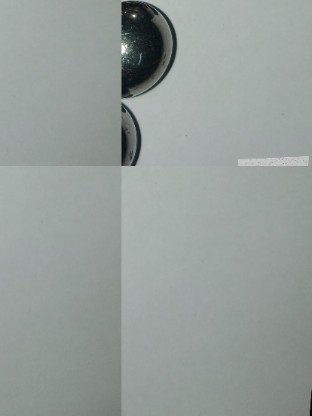ironball: (121, 0, 175, 98), (120, 99, 137, 166)
